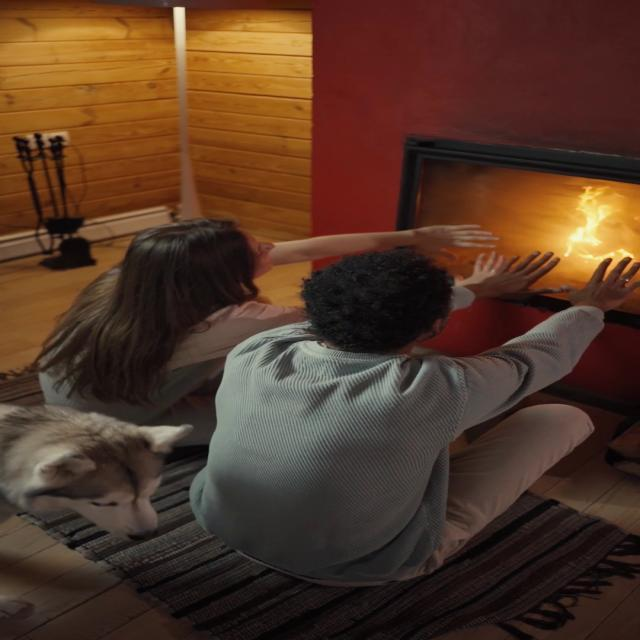Fire: (547, 182, 640, 266)
